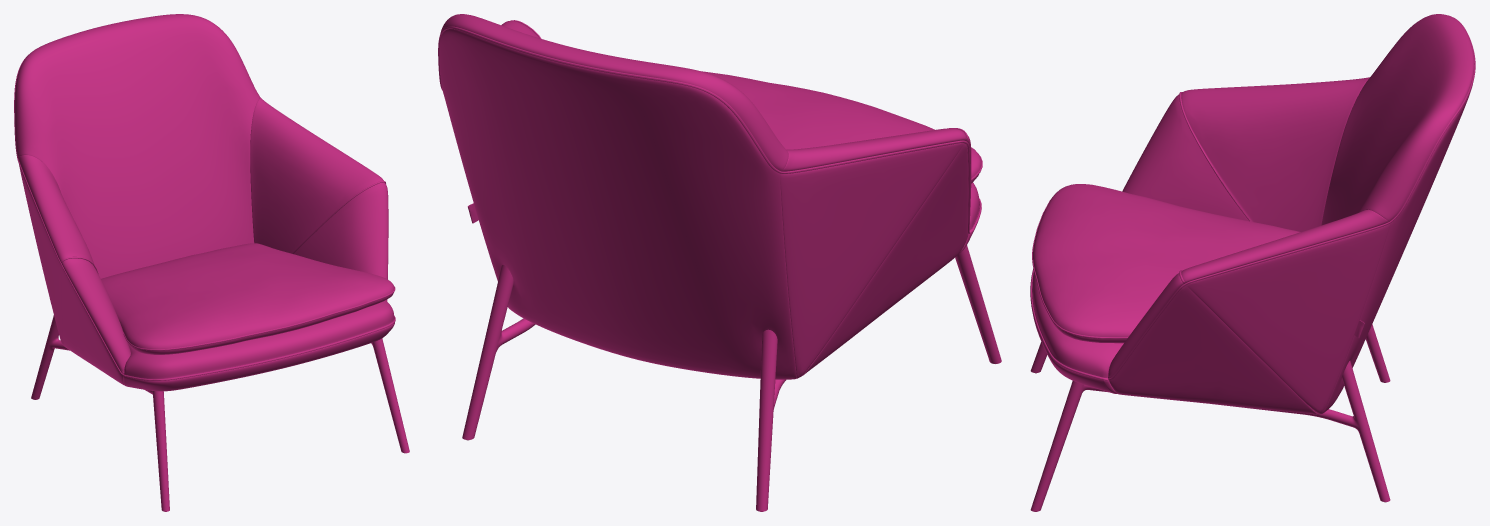
The model's file is Chair.fbx.
The picture shows the model from 3 angles, left to right: view 1: azimuth 30°, elevation 25°; view 2: azimuth 150°, elevation 25°; view 3: azimuth 270°, elevation 25°; orthographic projection. The views are drawn at different scales.
Parts seen in each view (by area): view 1: HUG ARMCHAIR; view 2: HUG ARMCHAIR; view 3: HUG ARMCHAIR.
Boxes of the visible parts, x1,y1,x2,y2 form: HUG ARMCHAIR: [14, 14, 409, 511]; HUG ARMCHAIR: [438, 14, 1001, 511]; HUG ARMCHAIR: [1030, 14, 1475, 511].
Size of the model in its own units: 8654 by 8197 by 8663.
